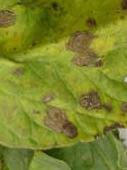Tomato Early blight leaf: (0, 0, 127, 156)
